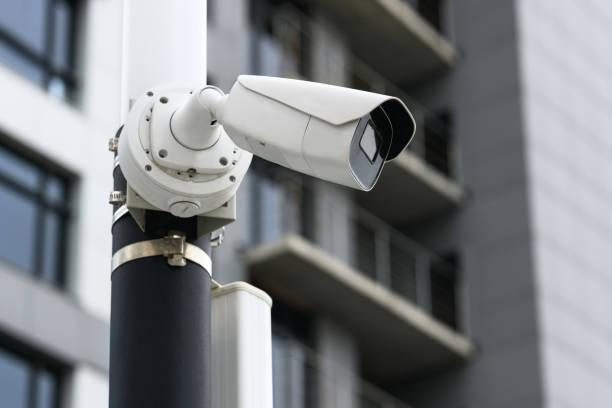camera: (180, 56, 434, 200)
